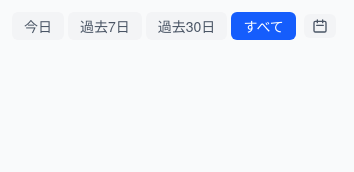
Test: DateFilter › カレンダーボタンクリックでカスタム日付入力が表示される
Check: the text "適用" is not shown
Click the button titled "日付を指定": (320, 26) [304, 14, 336, 38]
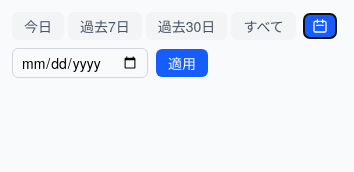
Check: the button "適用" is shown, box [156, 49, 208, 77]
